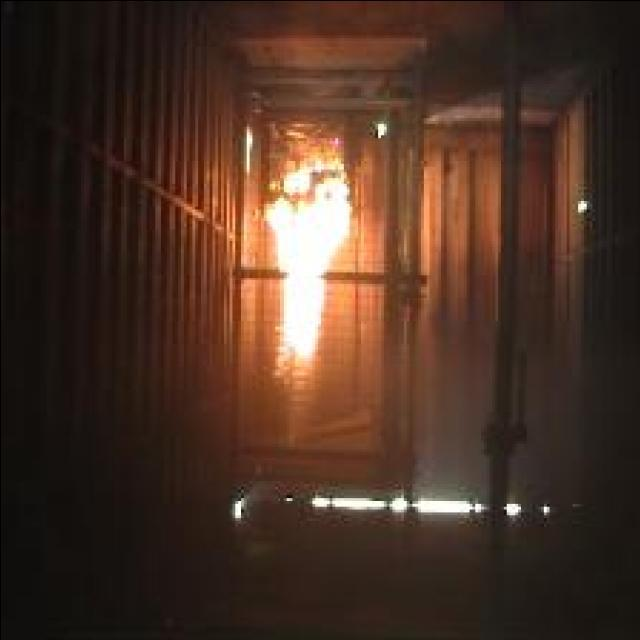Fire: (264, 162, 347, 378)
